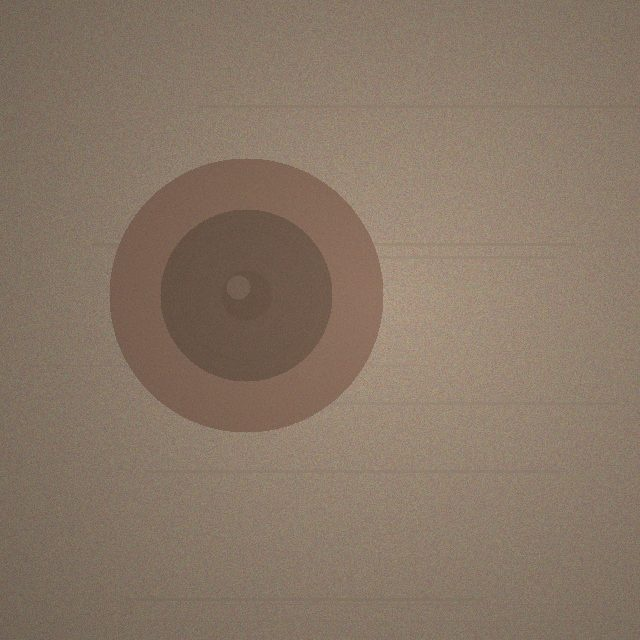good: (109, 158, 383, 432)
